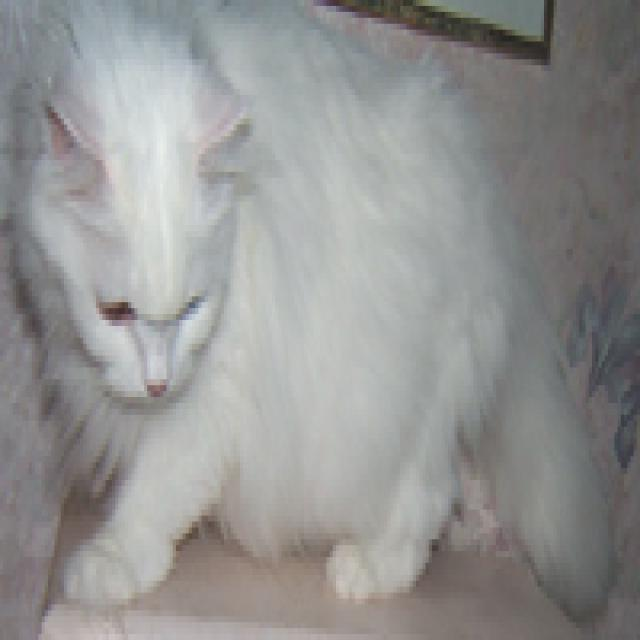Cats: (0, 0, 614, 622)
